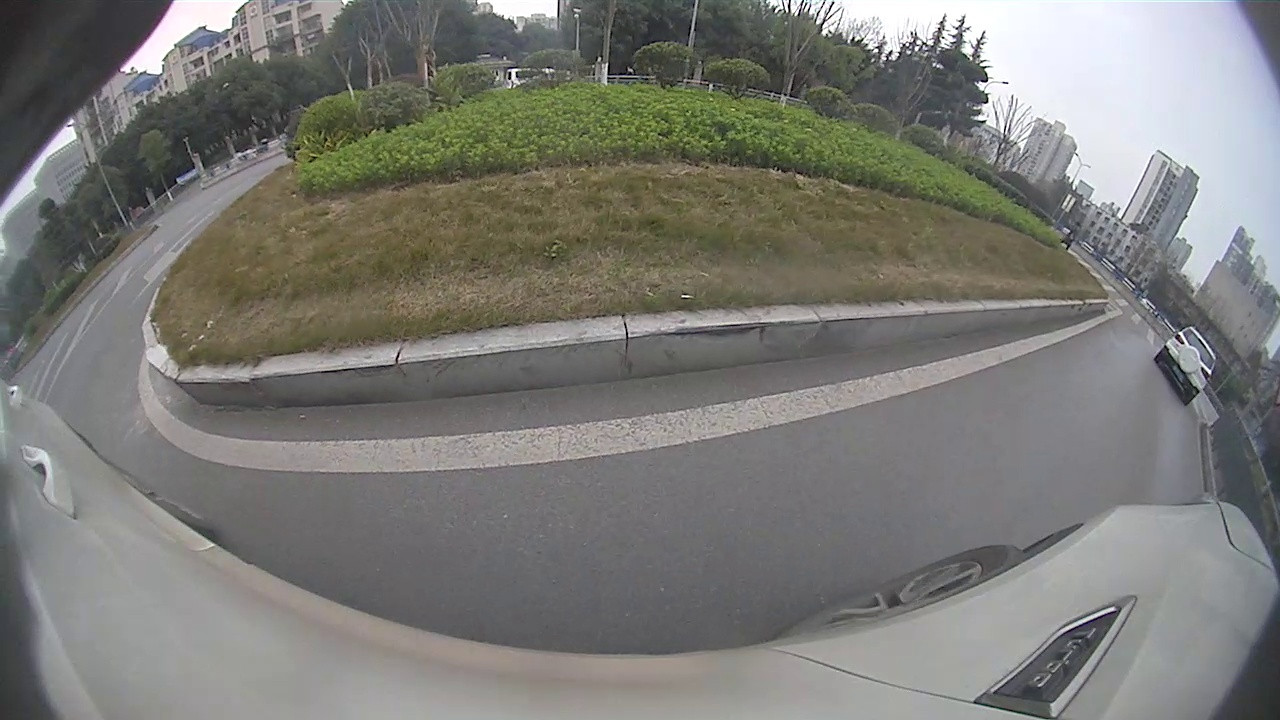car: (1153, 327, 1217, 405)
